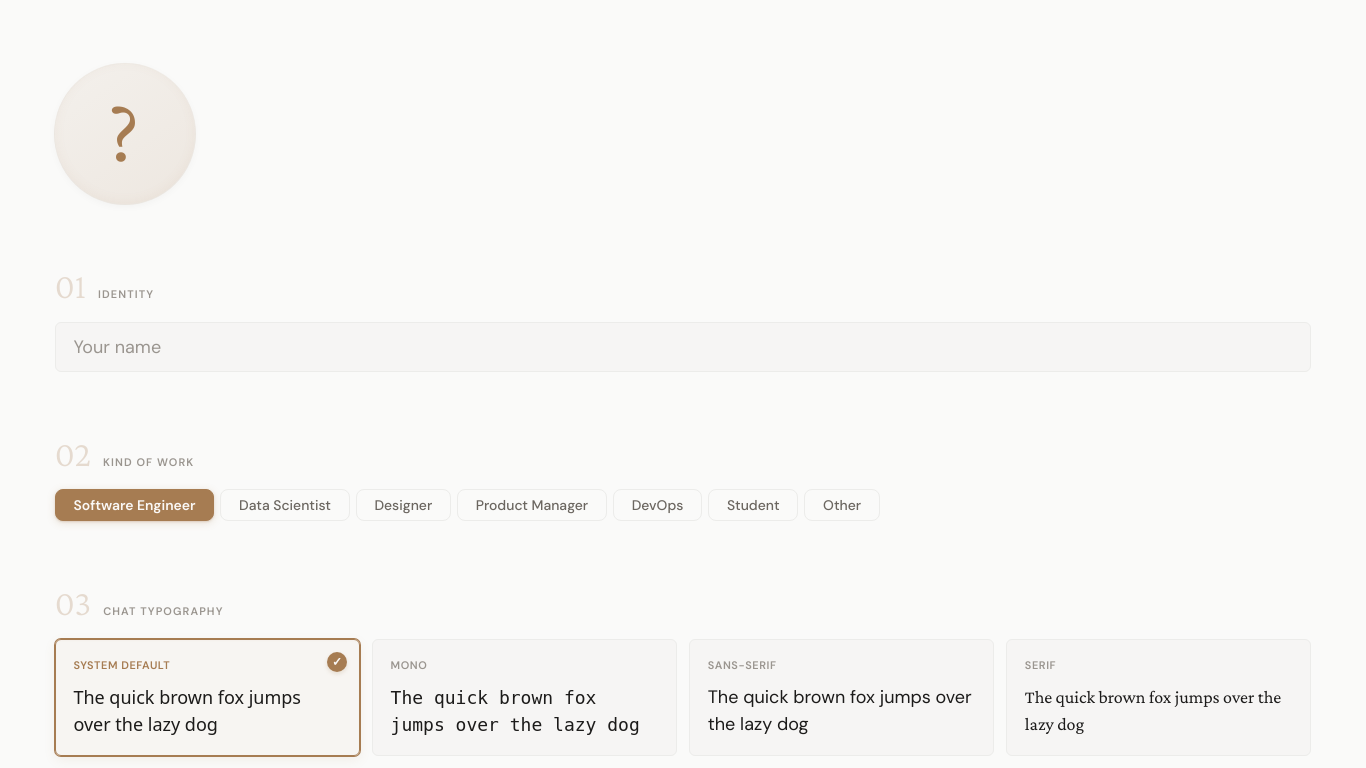
Test: ProfilePanel › shows auto-saved indicator after changes
Type "Dave" into the field with placeholder "Your name" at (683, 347), box [55,322,1311,372]
Wait 500 ms
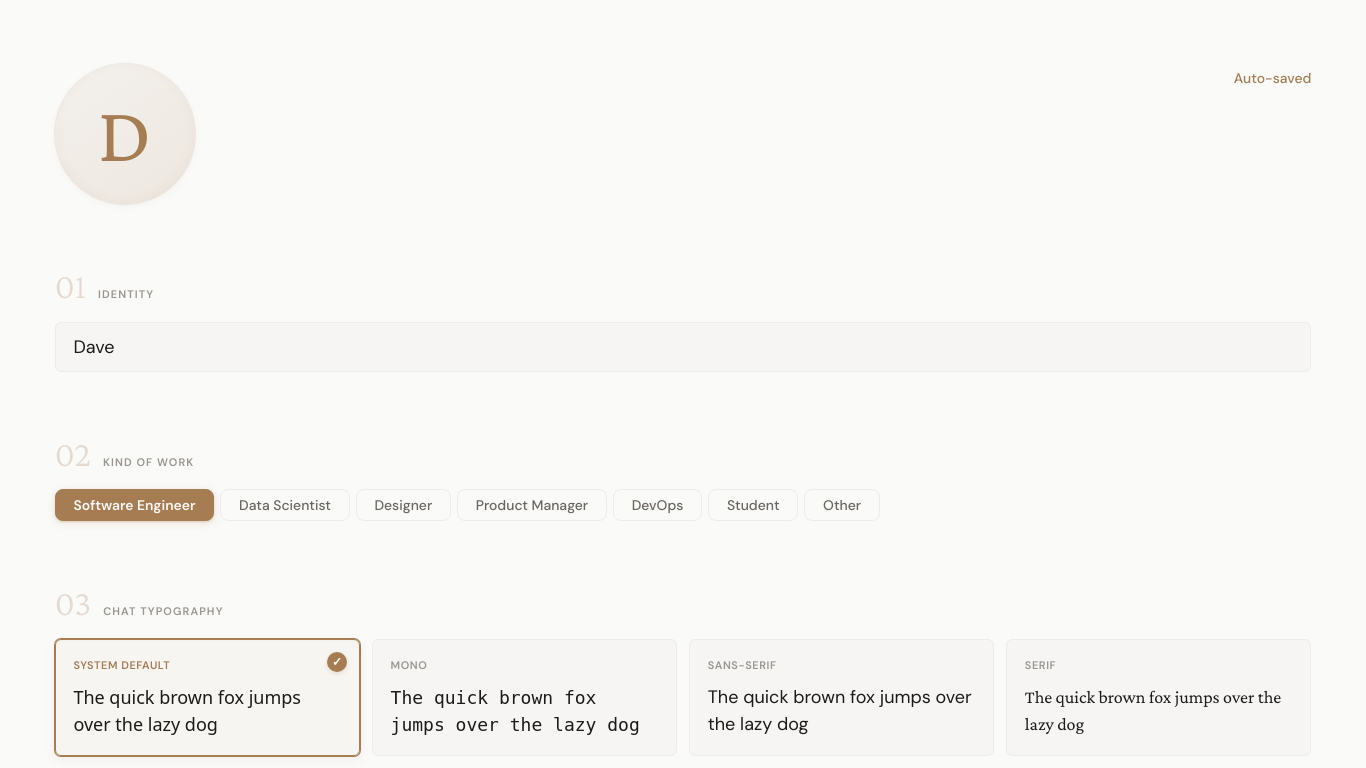
Result: the text "Auto-saved" is shown at [1234,64,1311,89]
